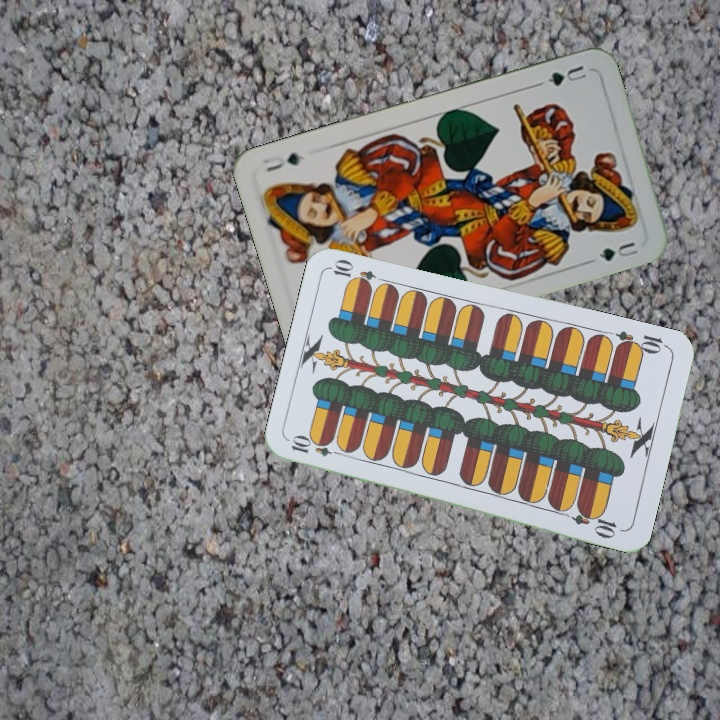E10: (612, 327, 671, 357), (287, 434, 346, 460)
GU: (543, 61, 590, 89)
